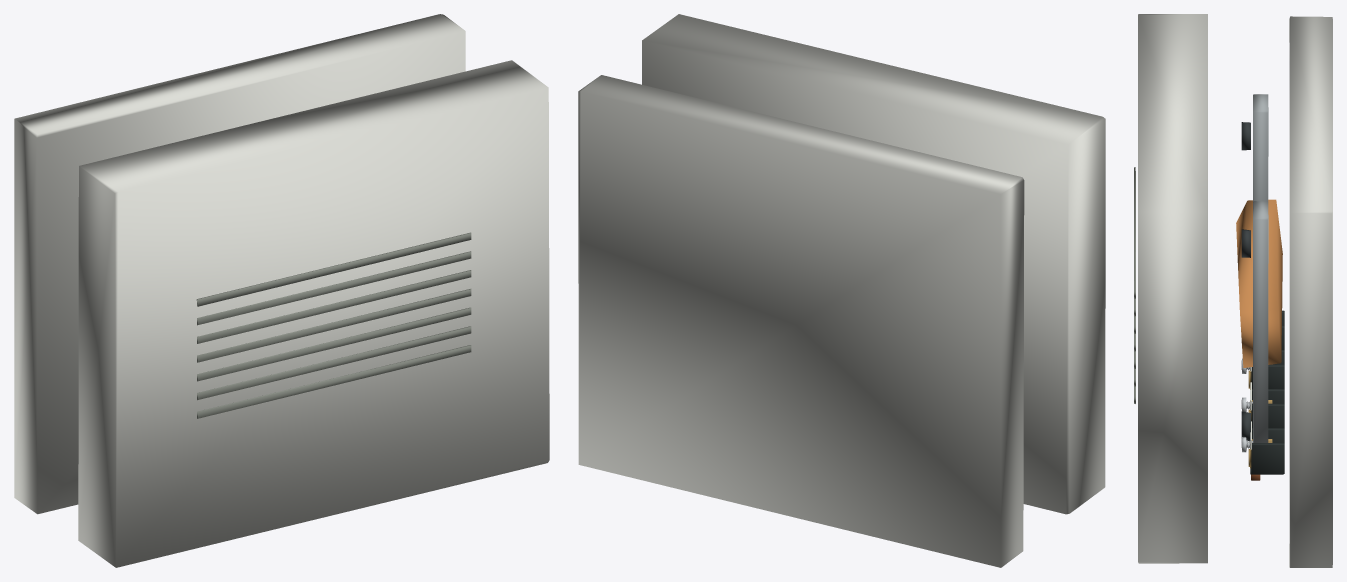
Rendered from callchime_default.low.glb.
3 renders of one model, left to right at view 1: azimuth 30°, elevation 25°; view 2: azimuth 150°, elevation 25°; view 3: azimuth 270°, elevation 25°, orthographic. The views are drawn at different scales.
Parts seen in each view (by area): view 1: node-15, node-4, node-14 · Original material.004; view 2: node-4, node-15; view 3: node-15, node-4, node-3 · Original material.001, node-13, detail:terminal-clamp:REAR · Detail moulded engineering poly, node-3 · Original material.002, detail:terminal-clamp:FRONT · Detail moulded engineering pol, detail:terminal-clamp:AC2 · Detail moulded engineering polym, node-14 · Original material.004.
Boxes of the visible parts, <box> form: node-15: <box>78,60,549,567</box>; node-4: <box>14,14,465,514</box>; node-14 · Original material.004: <box>196,232,471,418</box>; node-4: <box>578,75,1024,567</box>; node-15: <box>642,14,1105,514</box>; node-15: <box>1138,14,1207,563</box>; node-4: <box>1289,16,1332,567</box>; node-3 · Original material.001: <box>1253,94,1268,442</box>; node-13: <box>1236,199,1282,367</box>; detail:terminal-clamp:REAR · Detail moulded engineering poly: <box>1250,428,1284,474</box>; node-3 · Original material.002: <box>1241,122,1250,440</box>; detail:terminal-clamp:FRONT · Detail moulded engineering pol: <box>1251,389,1284,427</box>; detail:terminal-clamp:AC2 · Detail moulded engineering polym: <box>1251,350,1284,388</box>; node-14 · Original material.004: <box>1134,167,1135,403</box>.
Bounding box in the file's own units: 1.06 × 0.8924 × 0.4491.
